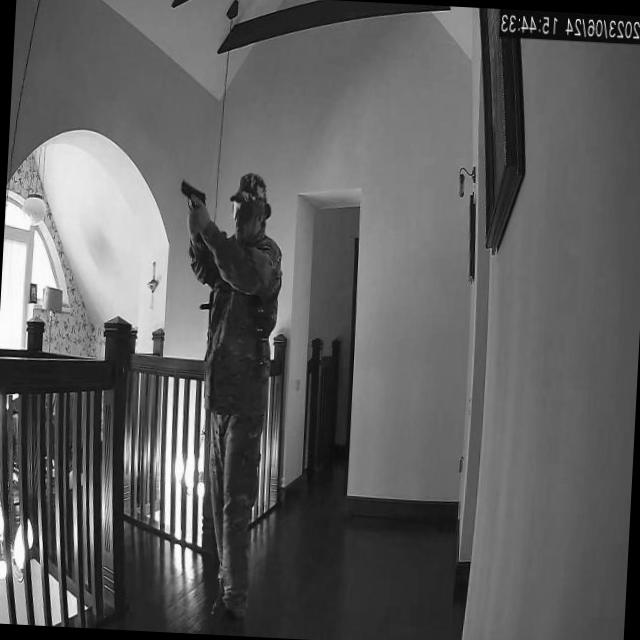gun: (177, 181, 208, 218)
person with a gun: (190, 171, 286, 634)
